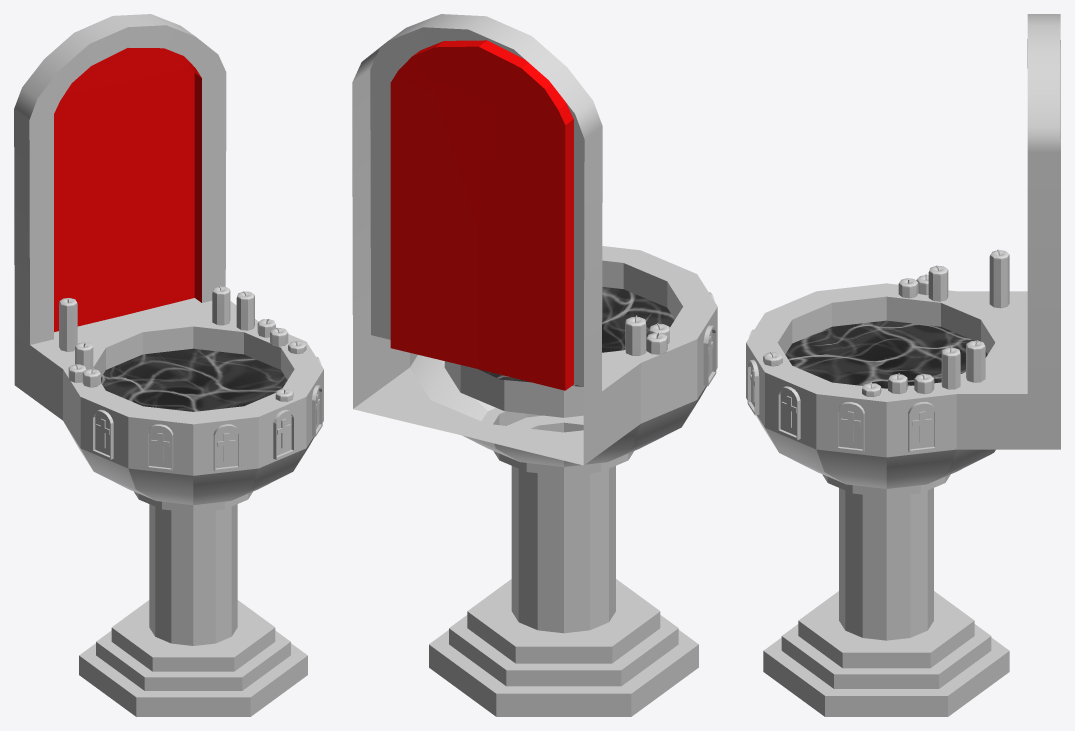
The model's file is BENITAR.fbx.
3 renders of one model, left to right at view 1: azimuth 30°, elevation 25°; view 2: azimuth 150°, elevation 25°; view 3: azimuth 270°, elevation 25°, orthographic. The views are drawn at different scales.
Visible parts, largest first — view 1: BENITAR; view 2: BENITAR; view 3: BENITAR.
Part boxes in pixels (x1,y1,x2,y2): BENITAR: (14,14,323,716); BENITAR: (352,14,717,716); BENITAR: (746,14,1060,716).
Size of the model in its own units: 0.8917 by 2.26 by 0.9992.
